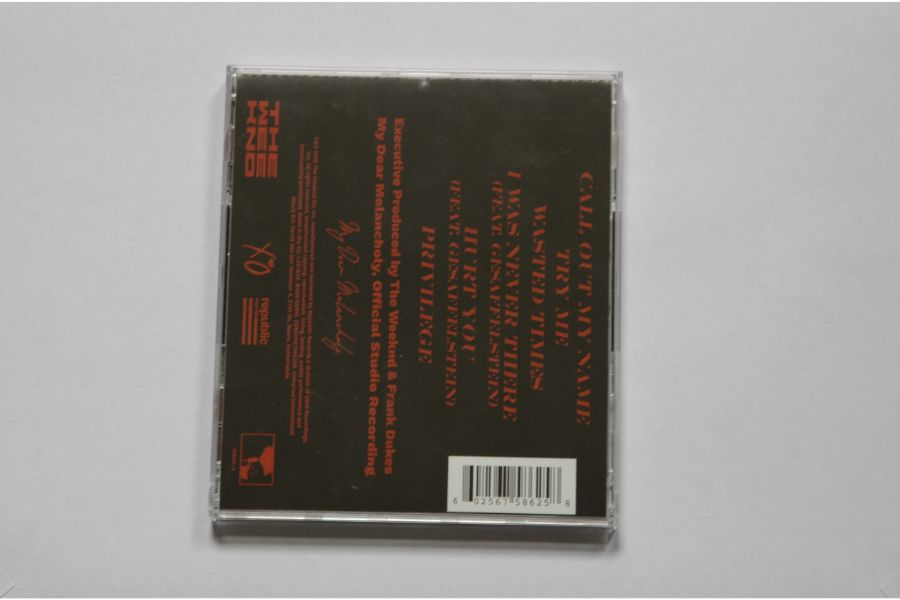album: (204, 63, 624, 538)
